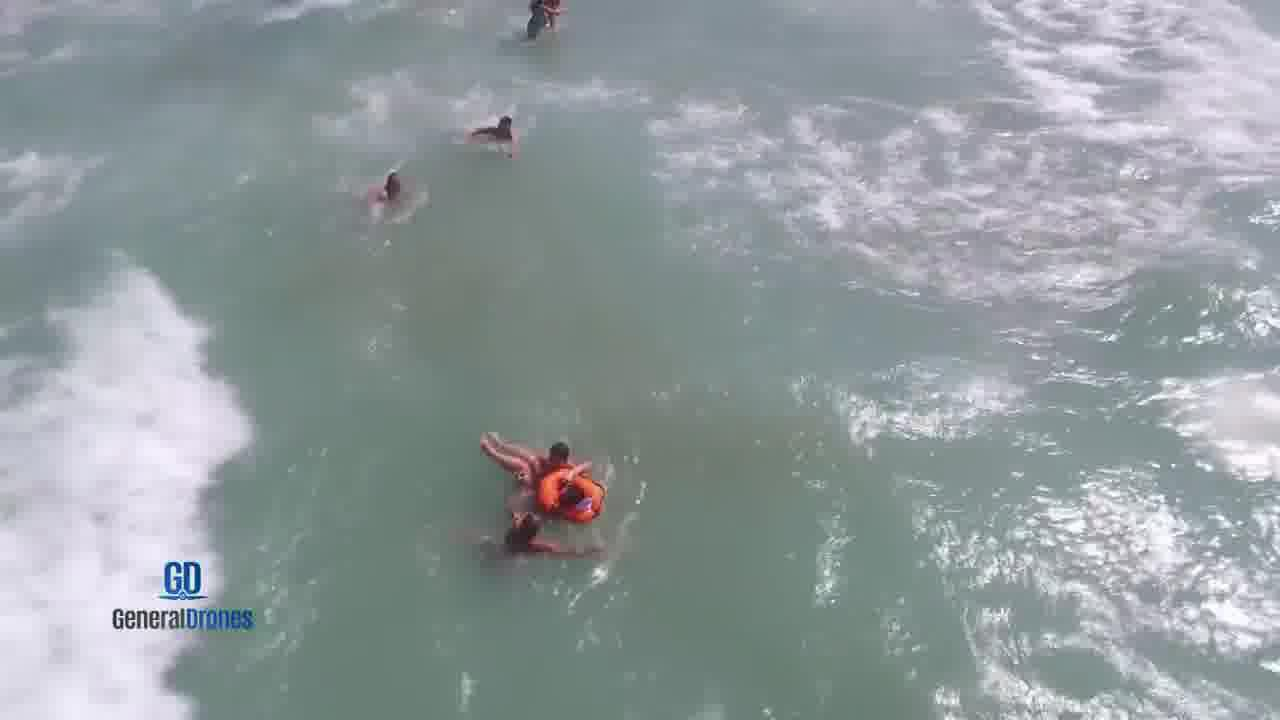human: (471, 425, 609, 515), (482, 492, 608, 565), (460, 106, 536, 162), (348, 166, 422, 213), (525, 429, 596, 476)
